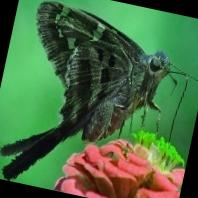butterfly: (3, 1, 169, 181)
